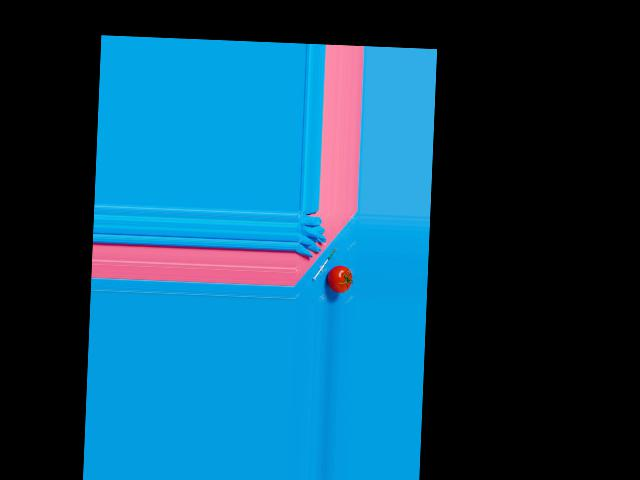tomato: (326, 264, 352, 292)
